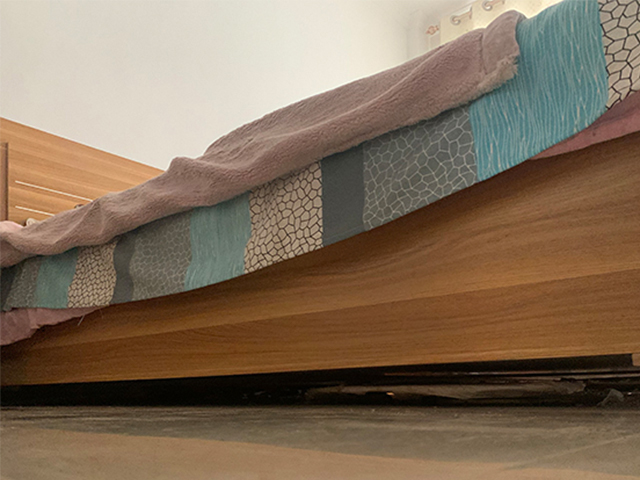bed: (1, 1, 640, 398)
